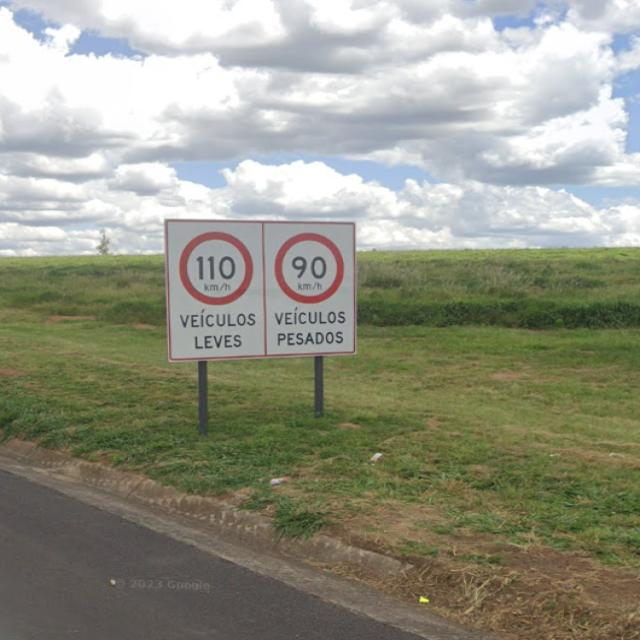speed limit: (146, 209, 372, 365)
